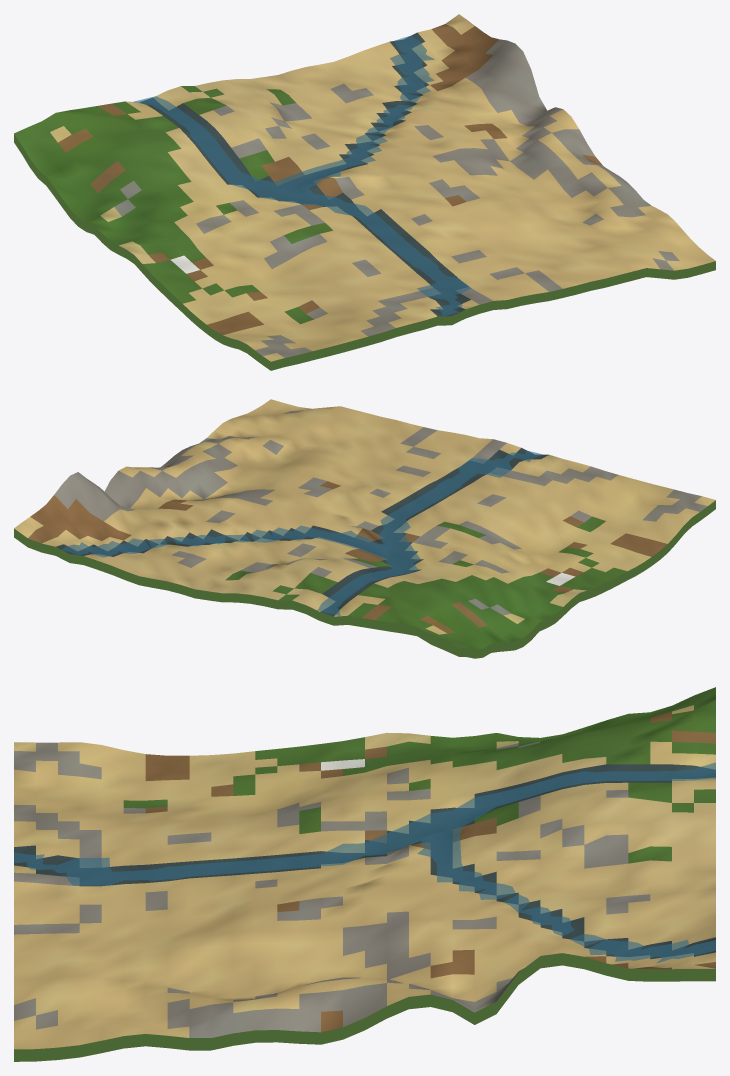
File: chunk_5_4_lod1.glb
3 views of the same model, one above another, from view 1: azimuth 30°, elevation 25°; view 2: azimuth 150°, elevation 25°; view 3: azimuth 270°, elevation 25° (orthographic). The views are drawn at different scales.
Visible parts, largest first — view 1: Surface_Sand, Surface_Grass, Surface_Gravel, Surface_Water, Water, Skirt, Surface_Dirt; view 2: Surface_Sand, Surface_Gravel, Surface_Grass, Surface_Water, Water, Skirt, Surface_Dirt; view 3: Surface_Sand, Surface_Gravel, Surface_Water, Surface_Grass, Water, Skirt, Surface_Dirt.
Part boxes in pixels (box(x1,y1,x2,y2)): Surface_Sand: box(50, 14, 715, 361); Surface_Grass: box(14, 86, 332, 323); Surface_Gravel: box(114, 39, 679, 357); Surface_Water: box(140, 32, 470, 316); Water: box(133, 36, 471, 316); Skirt: box(14, 134, 715, 370); Surface_Dirt: box(58, 24, 602, 335); Surface_Sand: box(14, 399, 715, 634); Surface_Gravel: box(54, 408, 707, 615); Surface_Grass: box(225, 516, 627, 649); Surface_Water: box(56, 447, 548, 616); Water: box(62, 450, 542, 615); Skirt: box(14, 500, 715, 658); Surface_Dirt: box(28, 464, 667, 633); Surface_Sand: box(14, 705, 715, 1049); Surface_Gravel: box(14, 741, 650, 1037); Surface_Water: box(14, 764, 715, 959); Surface_Grass: box(123, 687, 715, 863); Water: box(14, 762, 715, 963); Skirt: box(14, 953, 715, 1061); Surface_Dirt: box(145, 711, 715, 1032).
Bounding box in the file's own units: 256 × 45 × 256.
